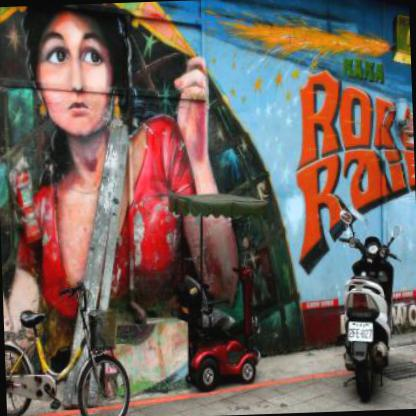motorcycle: (340, 233, 412, 410)
